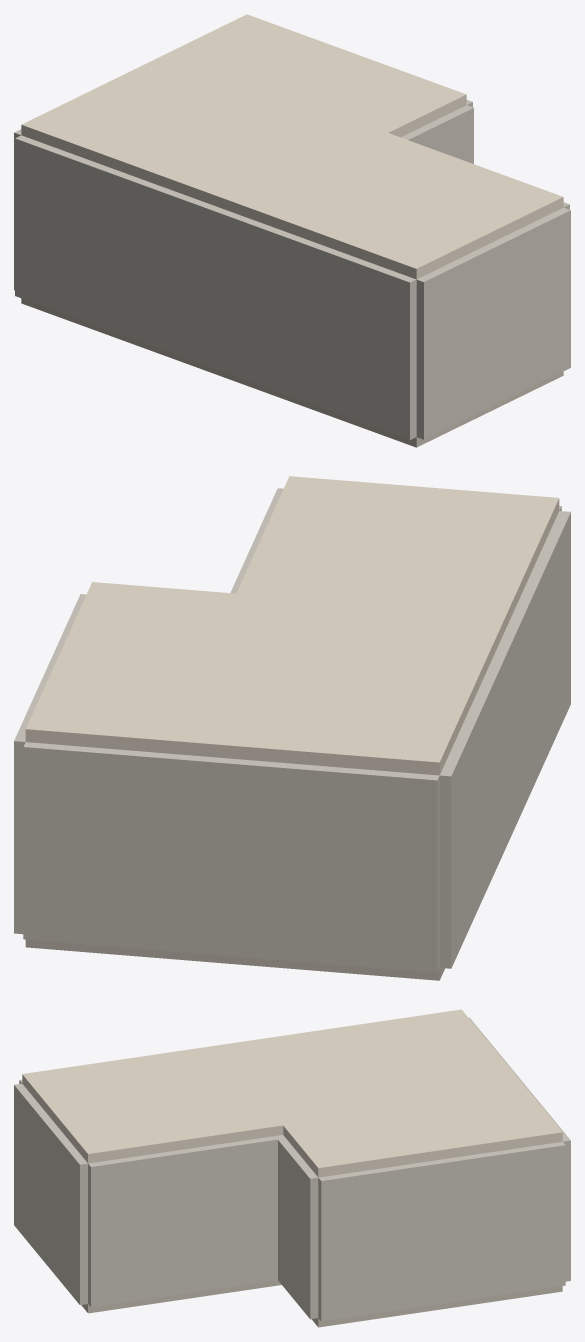
The picture shows the model from 3 angles, top to bottom: view 1: azimuth 30°, elevation 25°; view 2: azimuth 150°, elevation 25°; view 3: azimuth 270°, elevation 25°; orthographic projection. The views are drawn at different scales.
Parts seen in each view (by area): view 1: Ceiling, Wall_05, Wall_06, Floor, Wall_02; view 2: Ceiling, Wall_04, Wall_05, Floor, Wall_03, Wall_01; view 3: Ceiling, Wall_03, Wall_01, Wall_06, Wall_02, Floor, Wall_04.
Part boxes in pixels (box(x1,y1,x2,y2)): Ceiling: box(21, 14, 563, 279); Wall_05: box(15, 135, 416, 439); Wall_06: box(416, 207, 570, 439); Floor: box(21, 298, 563, 447); Wall_02: box(401, 105, 473, 163); Ceiling: box(25, 476, 559, 775); Wall_04: box(23, 742, 439, 972); Wall_05: box(439, 511, 570, 968); Floor: box(25, 939, 444, 980); Wall_03: box(14, 594, 86, 934); Wall_01: box(230, 488, 283, 593); Ceiling: box(22, 1009, 562, 1177); Wall_03: box(318, 1141, 565, 1321); Wall_01: box(88, 1135, 285, 1307); Wall_06: box(14, 1083, 87, 1304); Wall_02: box(277, 1135, 318, 1319); Floor: box(81, 1280, 562, 1327); Wall_04: box(469, 1017, 570, 1281).
Bounding box in the file's own units: 11.28 × 5.06 × 16.03.
